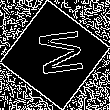M_W: (27, 29, 83, 81)
